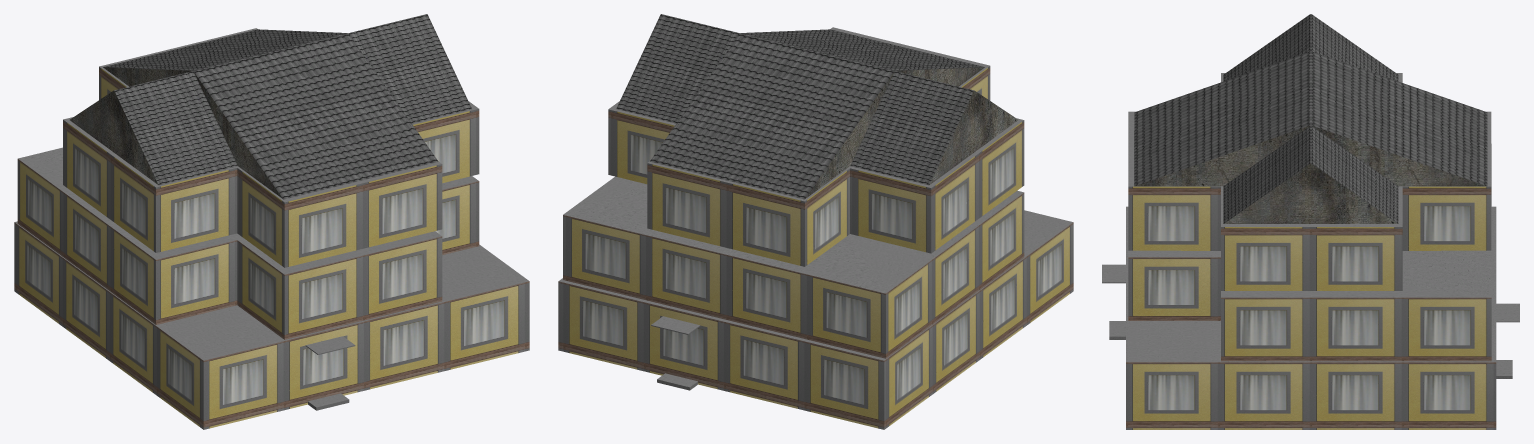
File: LOD01_Building_3stores_DoubleHouse.obj
The picture shows the model from 3 angles, left to right: view 1: azimuth 30°, elevation 25°; view 2: azimuth 150°, elevation 25°; view 3: azimuth 270°, elevation 25°; orthographic projection. The views are drawn at different scales.
Visible parts, largest first — view 1: LOD01_Building_3stores_DoubleHouse; view 2: LOD01_Building_3stores_DoubleHouse; view 3: LOD01_Building_3stores_DoubleHouse.
Boxes of the visible parts, box(x1,y1,x2,y2) form: LOD01_Building_3stores_DoubleHouse: box(14, 14, 529, 429); LOD01_Building_3stores_DoubleHouse: box(558, 14, 1073, 429); LOD01_Building_3stores_DoubleHouse: box(1102, 14, 1519, 429).
Size of the model in its own units: 5.22 by 4.11 by 5.92.
